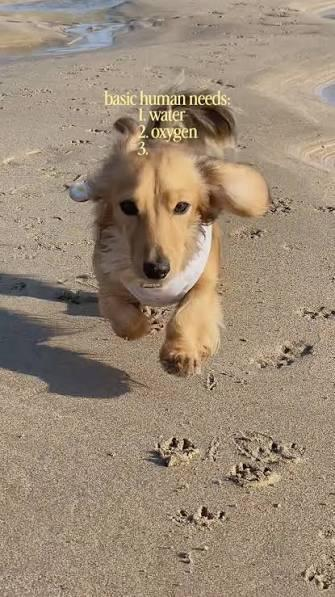adult_dog: (80, 107, 272, 380)
